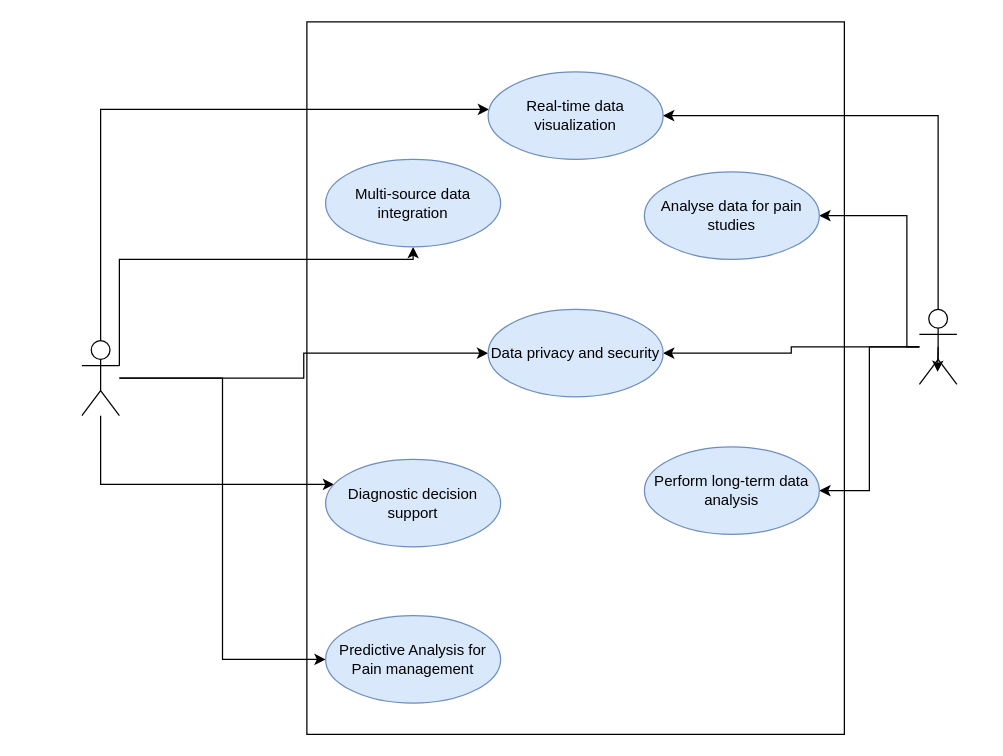
Some shapes in this 1003 by 756 pixel diagram are drawn without their labels. The shapes that lost their labels are listed below. From the top down, each one's centre as x and y in pixels, then its label:
At (937,346): "Researchers".
At (100,377): "Healthcare Professional".
